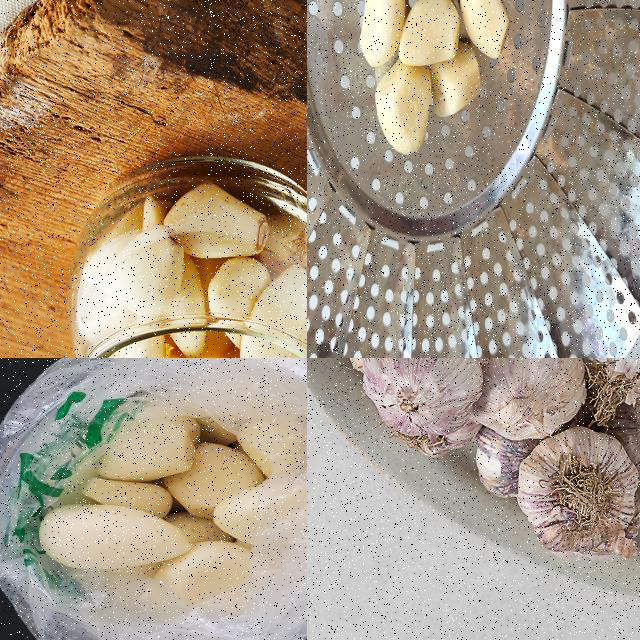garlic: (40, 417, 268, 615), (77, 185, 306, 357), (331, 0, 511, 157), (520, 428, 638, 558), (469, 358, 585, 442), (371, 358, 482, 438), (600, 379, 639, 500), (556, 358, 639, 407)
